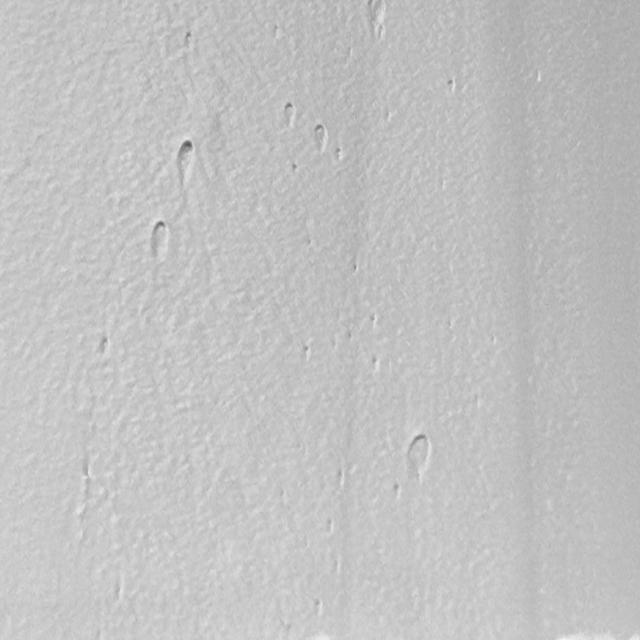pin holes: (405, 433, 435, 481), (362, 0, 390, 36), (147, 218, 172, 258), (175, 141, 198, 176), (95, 334, 113, 359), (308, 598, 327, 621), (313, 123, 329, 150), (112, 580, 130, 604), (279, 102, 296, 127), (321, 516, 336, 538), (184, 31, 198, 52), (271, 22, 284, 42), (392, 480, 404, 501), (300, 343, 313, 362), (368, 356, 382, 373), (368, 311, 381, 329), (533, 68, 546, 84), (444, 80, 456, 97), (333, 146, 345, 163), (290, 160, 302, 175), (344, 328, 354, 344), (349, 262, 360, 276)
